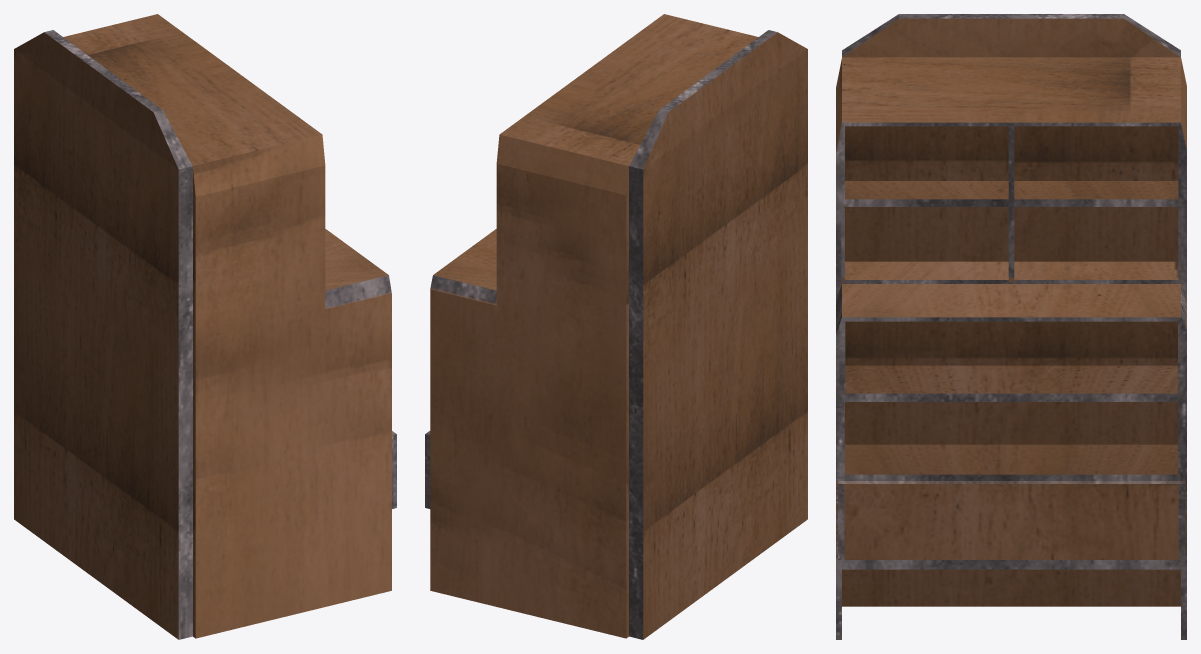
The model's file is shelf.fbx.
3 views of the same model, side by side, from view 1: azimuth 30°, elevation 25°; view 2: azimuth 150°, elevation 25°; view 3: azimuth 270°, elevation 25° (orthographic). The views are drawn at different scales.
Parts seen in each view (by area): view 1: shelf; view 2: shelf; view 3: shelf.
Part boxes in pixels (x1=…): shelf: x1=14, y1=14, x2=396, y2=639; shelf: x1=425, y1=14, x2=807, y2=639; shelf: x1=836, y1=14, x2=1186, y2=639.
Size of the model in its own units: 78.89 by 177 by 108.
